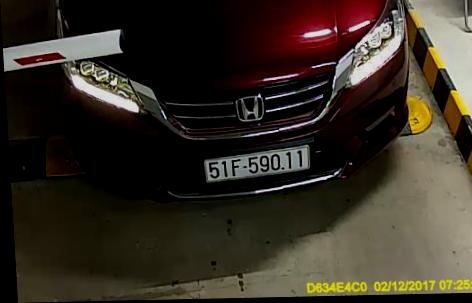License_Plate: (194, 146, 321, 183)
